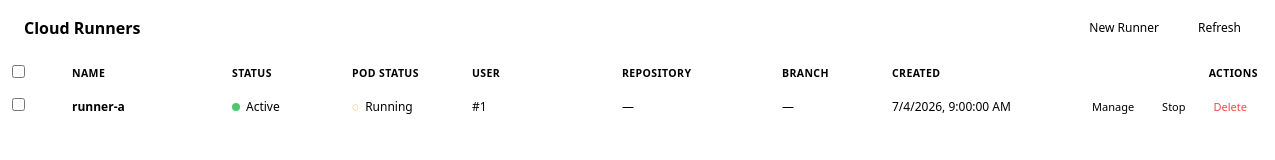
Scenario: CloudRunnersView › re-requests on Refresh and returns to the loading state
Check: the text "Loading runners…" is not shown
Click the button "Refresh" at (1220,28), box [1183, 14, 1256, 43]
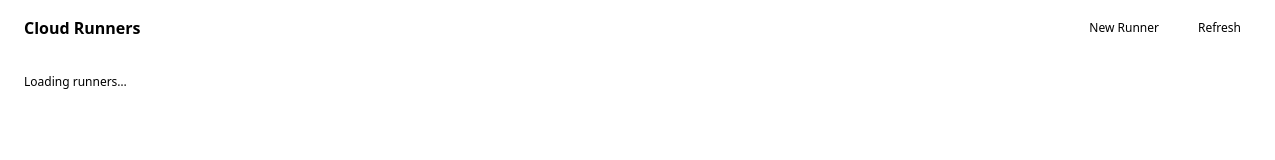
Check: the text "Loading runners…" is shown, box [24, 73, 127, 90]
